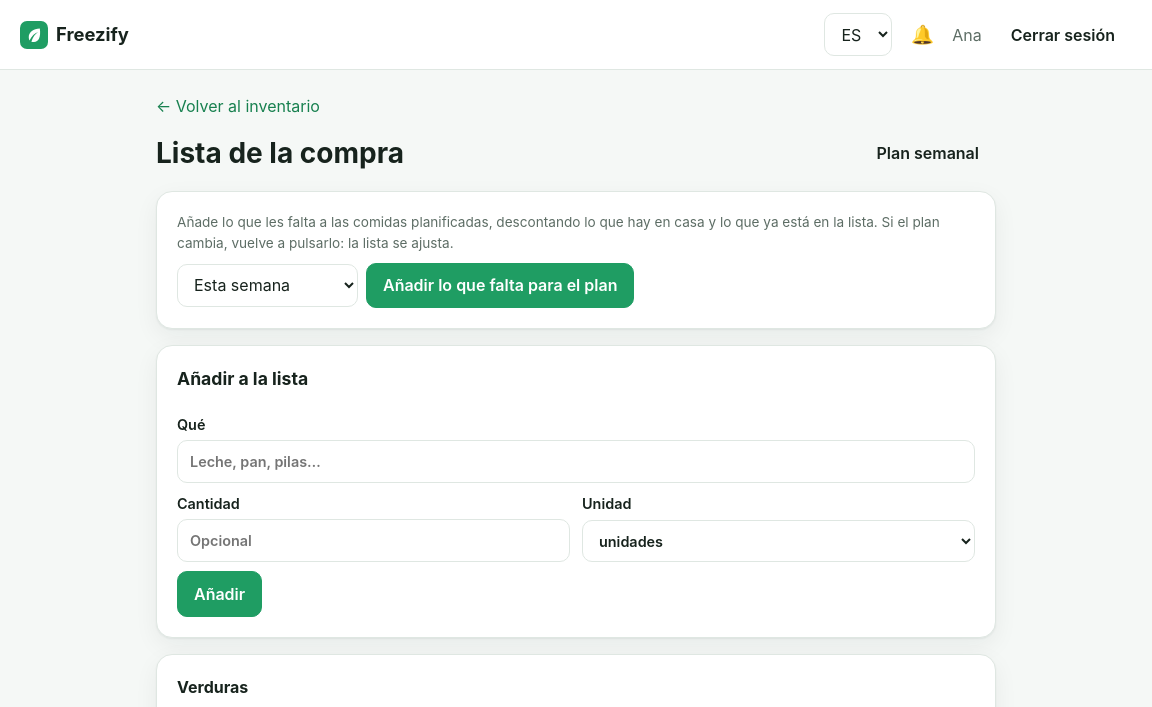
Test case: shopping list › fills the list with what the plan of this week or the next lacks
Expected: the heading "Lista de la compra" is shown, [156,132,404,174]
Click the button "Añadir lo que falta para el plan" at (500, 285), box [366,263,634,308]
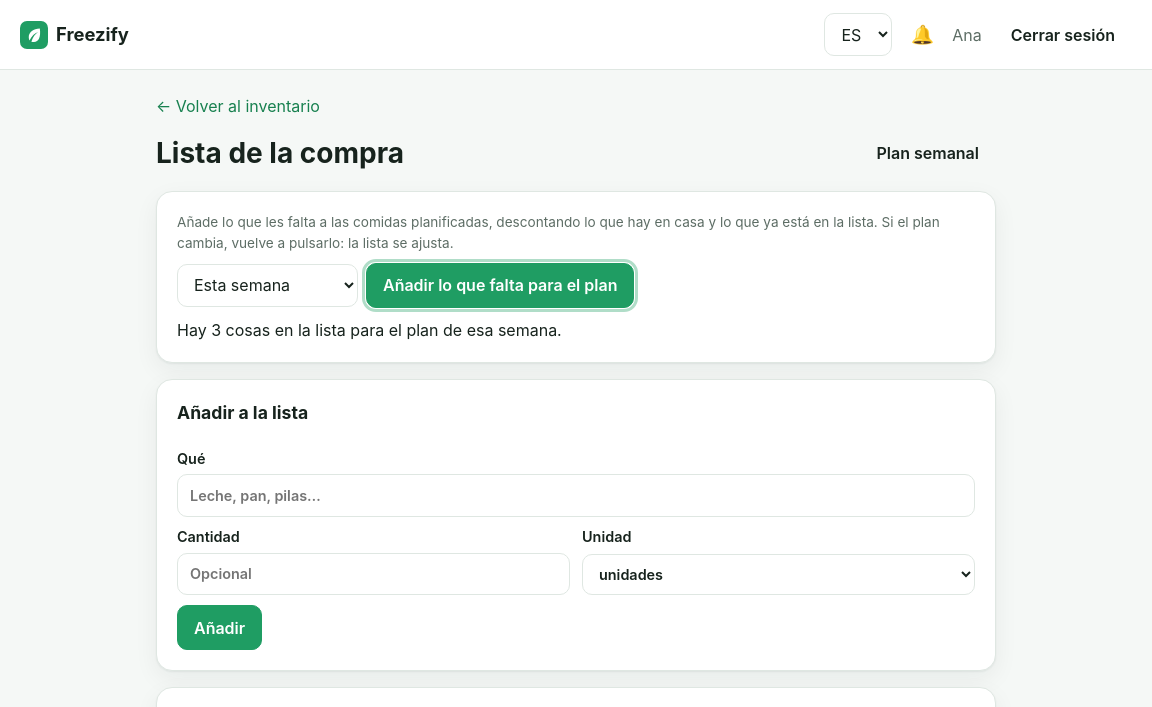
Expected: the message reads "Hay 3 cosas en la lista para el plan de esa semana.", [177,320,562,340]
Select "Semana siguiente" in the dropdown named "Semana" at (268, 285), box [177,264,358,307]
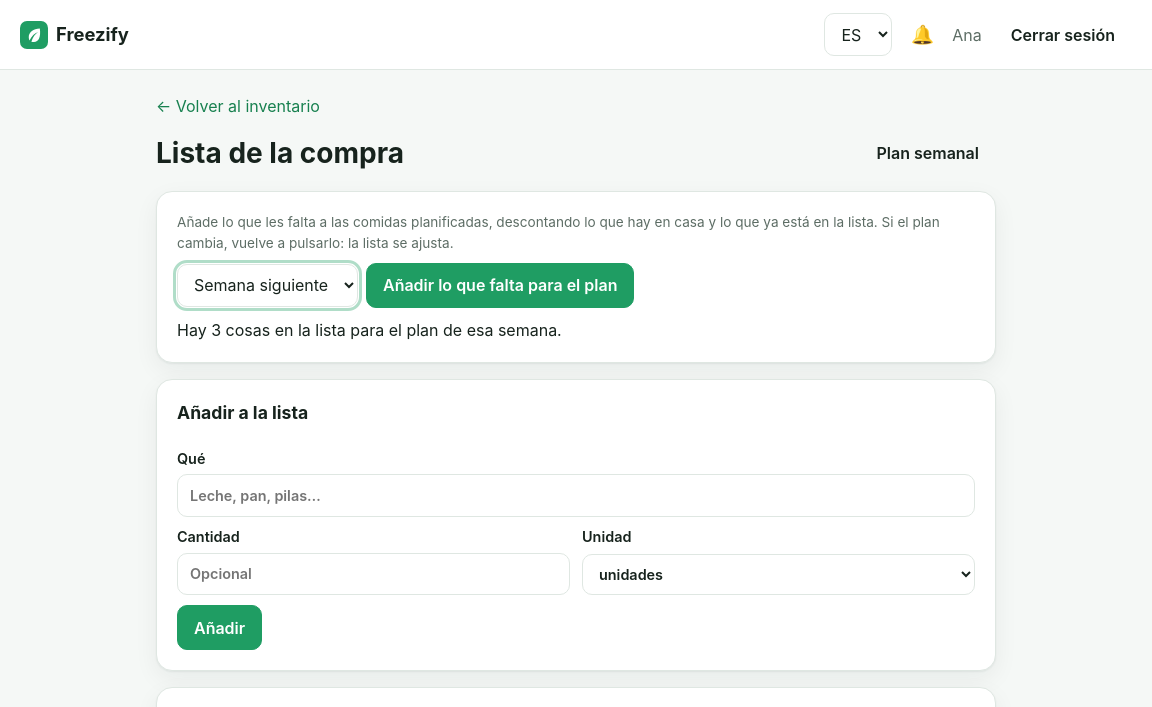
Click the button "Añadir lo que falta para el plan" at (500, 285), box [366,263,634,308]
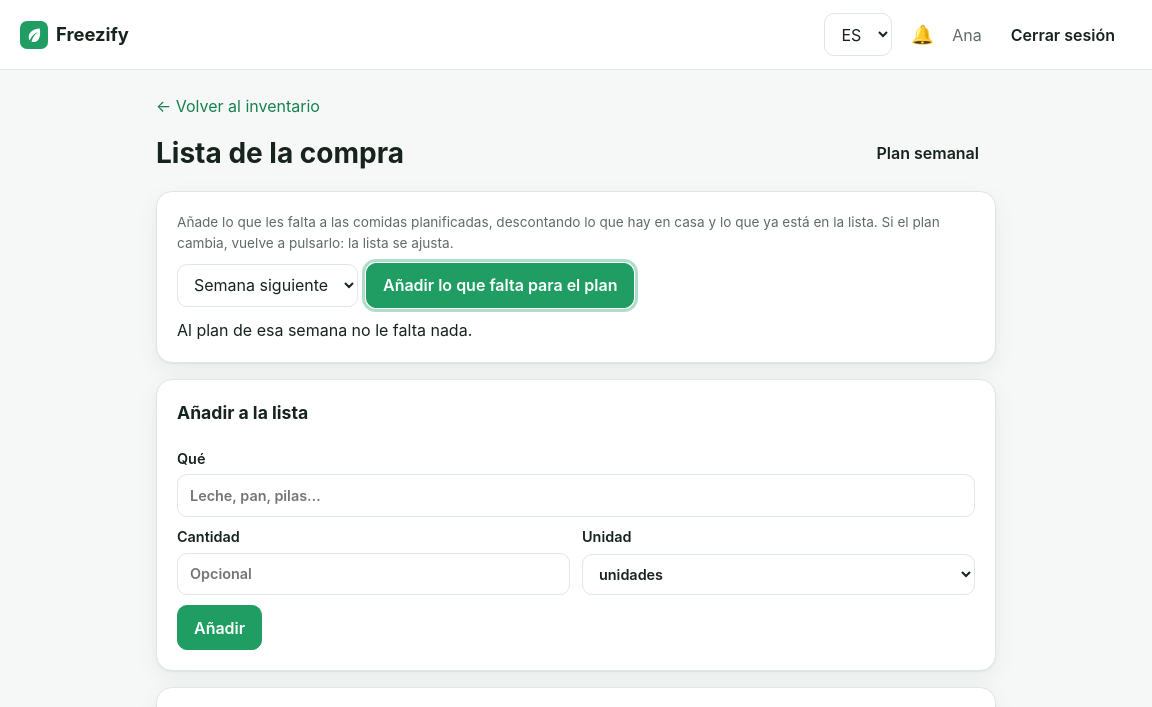
Expected: the message reads "Al plan de esa semana no le falta nada.", [177,320,472,340]
